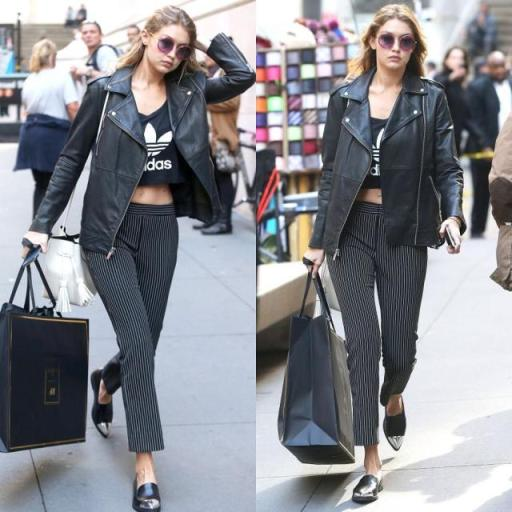Adidas: (140, 121, 174, 174)
